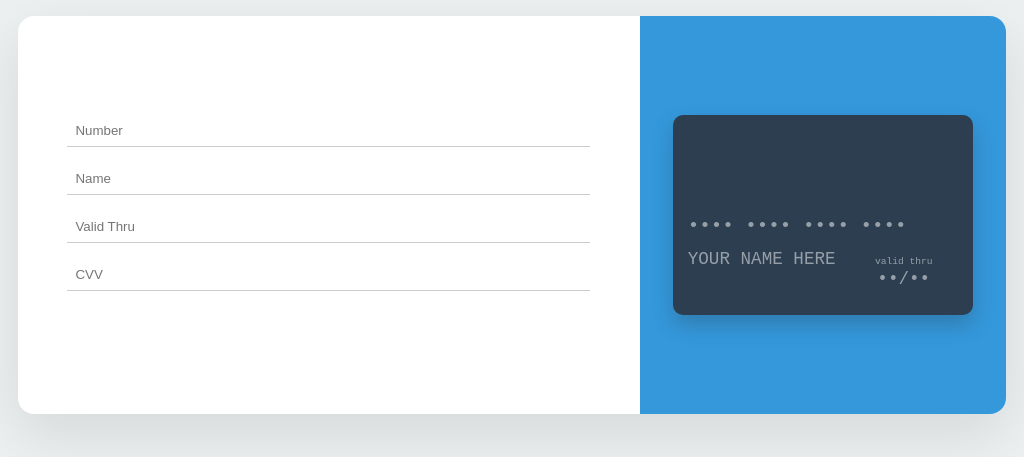
Test case: App › Input handlers › presents
This screenshot has width=1024, height=457.
Type "123456789012345678" into the field with placeholder "Number".
click(329, 131); type("123456789012345678")  # box [67,115,590,147]
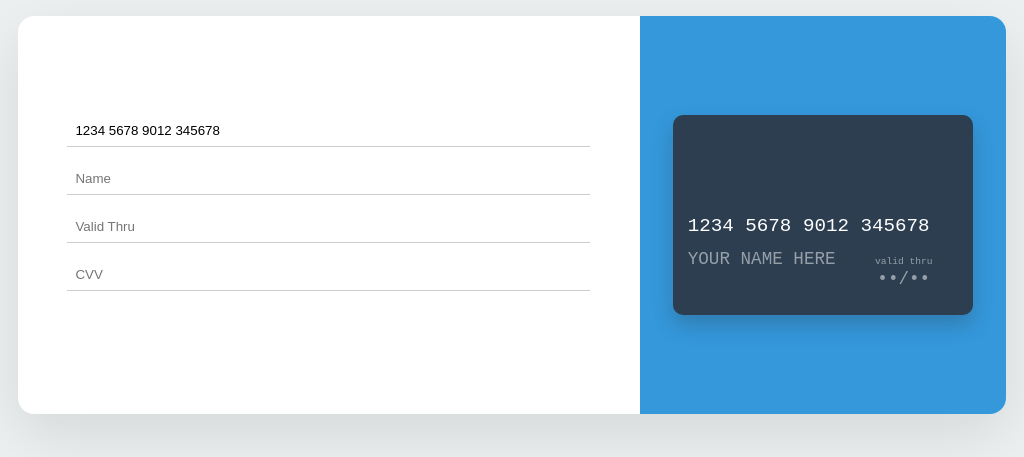
Expected: the text "1234 5678 9012 345678" is shown, [688,215,958,249]
